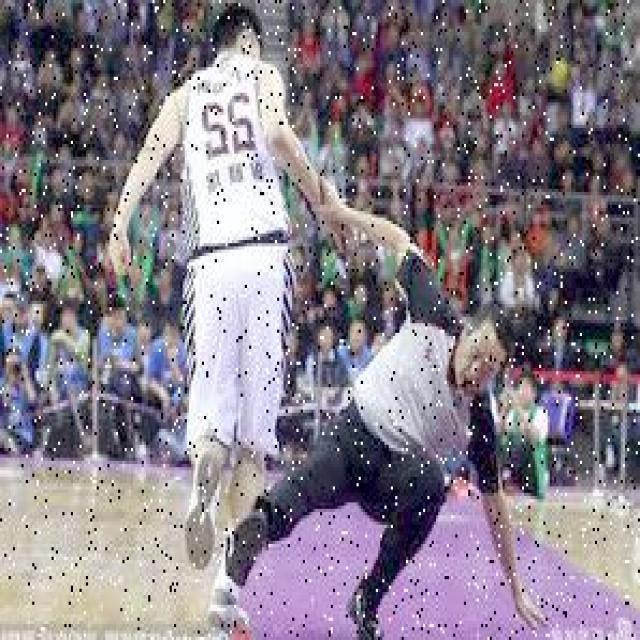fall: (253, 272, 534, 630)
